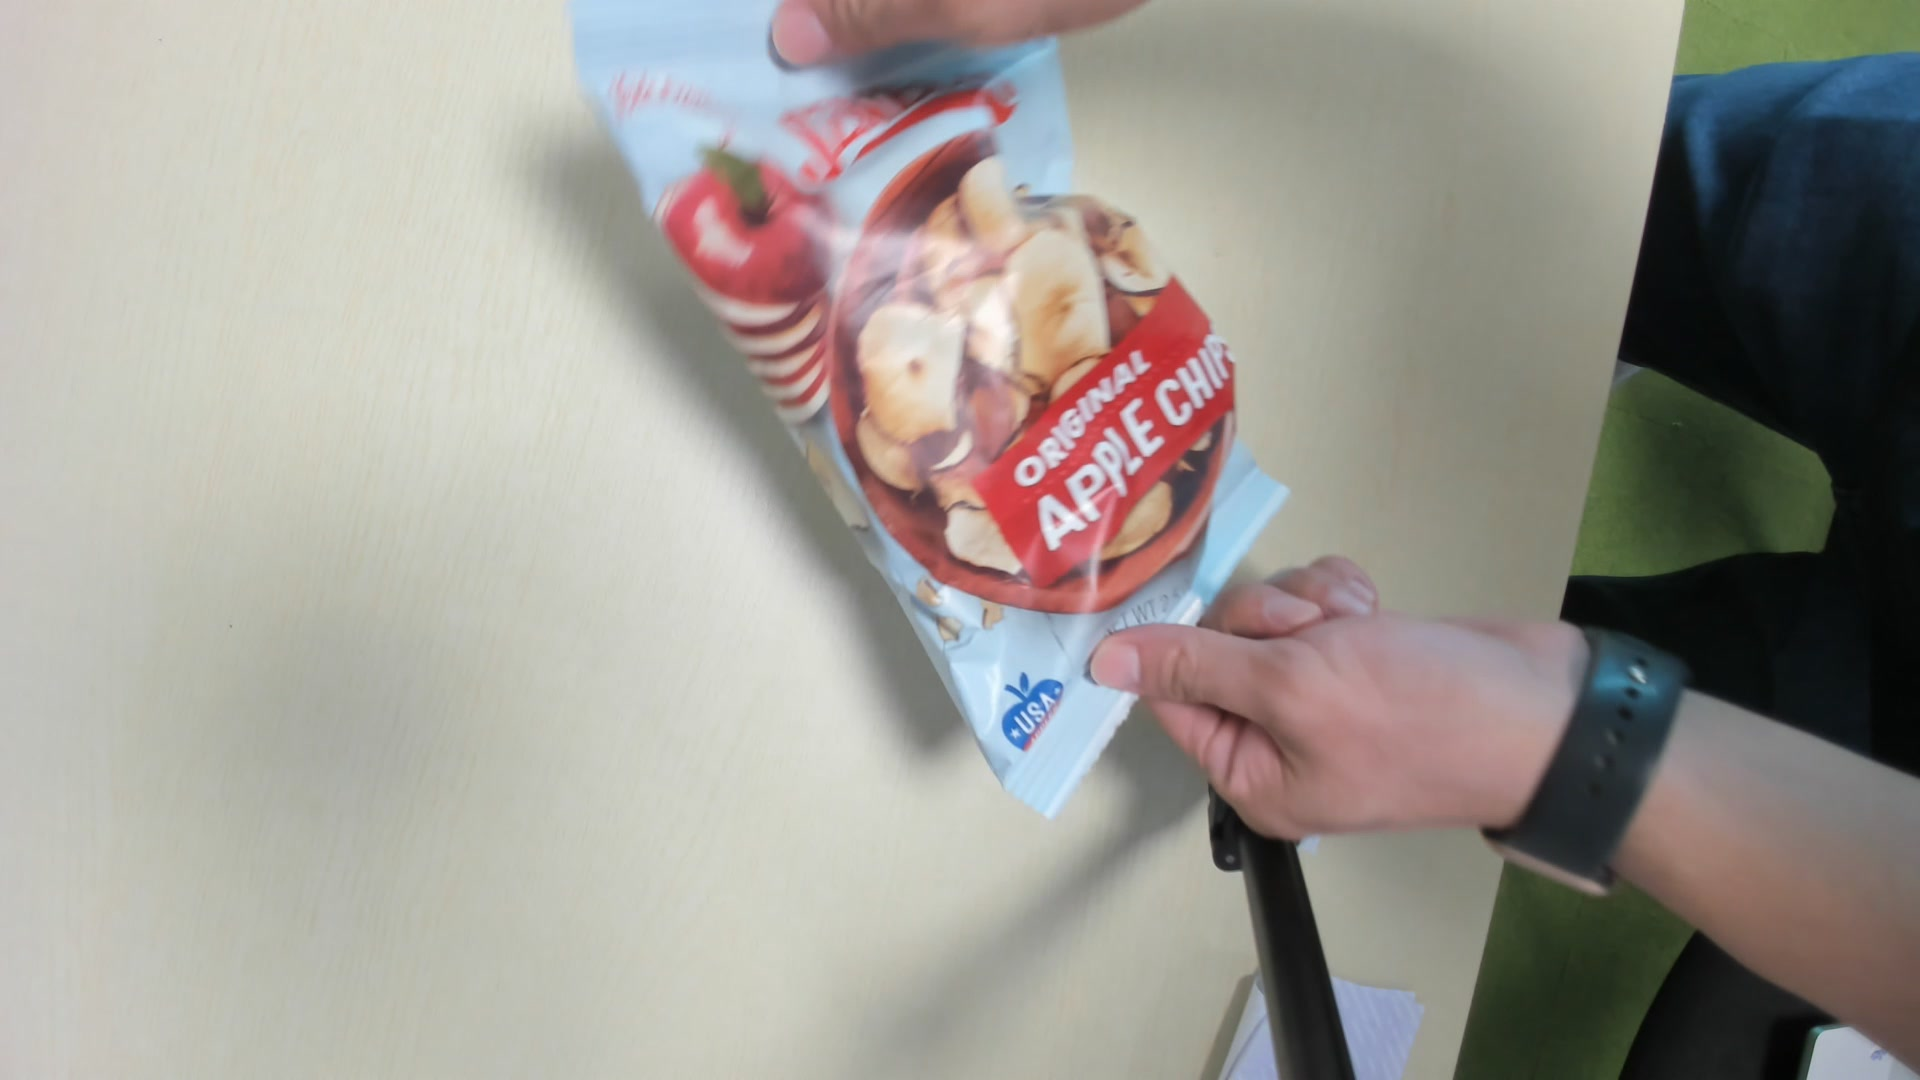PotatoChipsKeropok_0-99g_NonHalal_NonHealthy: (588, 11, 1266, 816)
